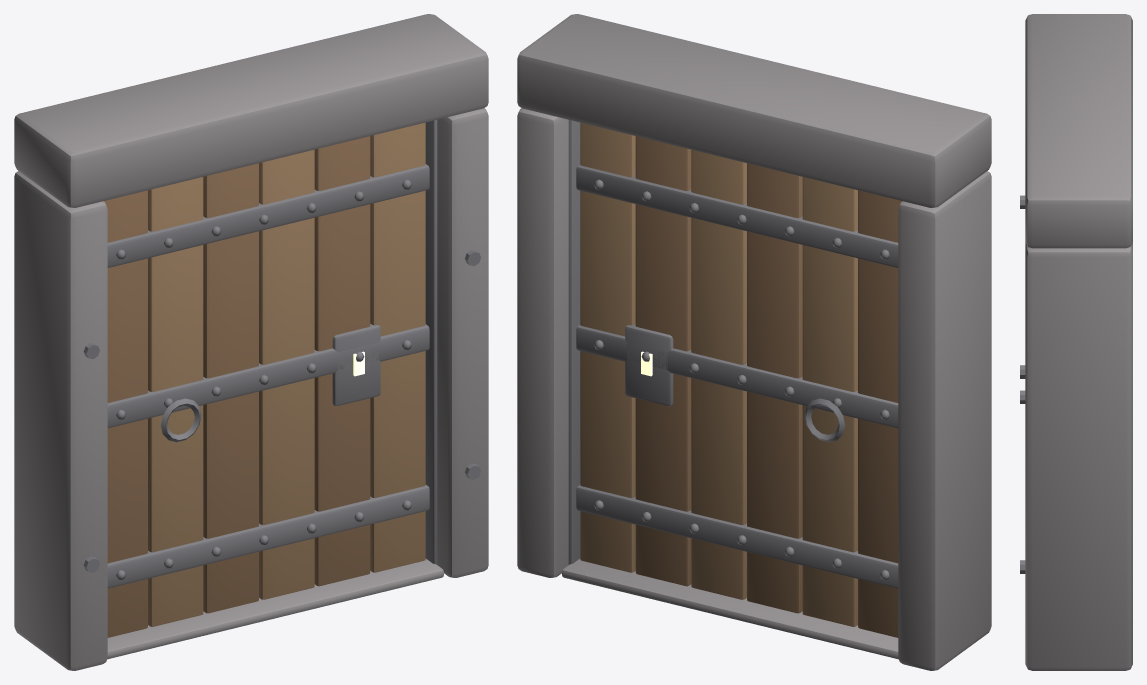
Rendered from door.glb.
The picture shows the model from 3 angles, left to right: view 1: azimuth 30°, elevation 25°; view 2: azimuth 150°, elevation 25°; view 3: azimuth 270°, elevation 25°; orthographic projection. The views are drawn at different scales.
Visible parts, largest first — view 1: leaf, door; view 2: leaf, door; view 3: door.
Part boxes in pixels (left/top/right/bottom): leaf: left=103, top=122, right=429, bottom=637; door: left=14, top=14, right=488, bottom=670; leaf: left=576, top=122, right=902, bottom=637; door: left=517, top=14, right=991, bottom=670; door: left=1020, top=14, right=1132, bottom=670.
Size of the model in its own units: 1.24 by 1.46 by 0.315.
